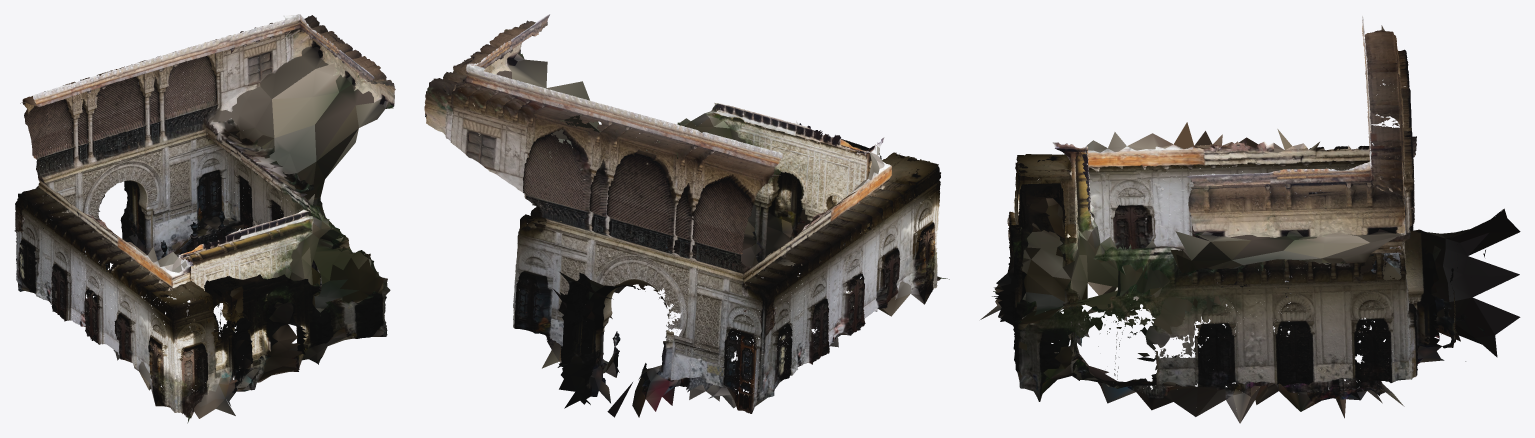
Rendered from medium.glb.
The picture shows the model from 3 angles, left to right: view 1: azimuth 30°, elevation 25°; view 2: azimuth 150°, elevation 25°; view 3: azimuth 270°, elevation 25°; orthographic projection. The views are drawn at different scales.
Visible parts, largest first — view 1: Alhambra_Patio_PG; view 2: Alhambra_Patio_PG; view 3: Alhambra_Patio_PG.
Part boxes in pixels (x1=…): Alhambra_Patio_PG: x1=14, y1=14, x2=395, y2=423; Alhambra_Patio_PG: x1=424, y1=14, x2=949, y2=417; Alhambra_Patio_PG: x1=980, y1=15, x2=1520, y2=423.
Bounding box in the file's own units: 22.29 × 16.6 × 27.52.
1 material, 1 textured.
